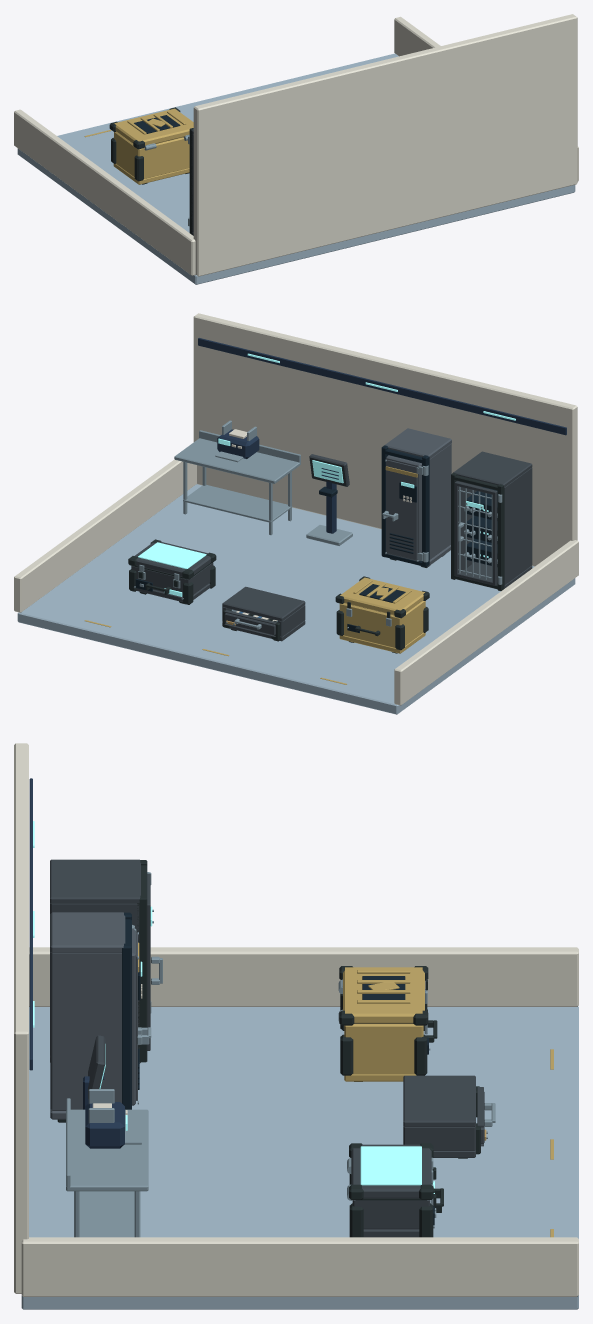
Rendered from equipment_service_room.glb.
3 renders of one model, top to bottom at view 1: azimuth 30°, elevation 25°; view 2: azimuth 150°, elevation 25°; view 3: azimuth 270°, elevation 25°, orthographic. The views are drawn at different scales.
Visible parts, largest first — view 1: rear_wall, room_floor, cutaway_side (×2), battery_module_crate_body_back_wall, battery_module_crate_moving_lid, battery_module_crate_body_side_wall, battery_module_crate_body_floor; view 2: room_floor, rear_wall, cutaway_side (×2), server_service_cabinet_body_side_wall (×2), service_rail, stainless_prep_table_work_surface, secure_equipment_locker_moving_front_inset, secure_equipment_locker_body_left_wall, stainless_prep_table_lower_shelf, currency_transport_case_body_roof, server_service_cabinet_body_roof, battery_module_crate_body_front_wall (+14 smaller); view 3: room_floor, cutaway_side (×2), secure_equipment_locker_body_right_wall, rear_wall, stainless_prep_table_work_surface, server_service_cabinet_body_roof, currency_transport_case_body_roof, battery_module_crate_body_side_wall, secure_equipment_locker_body_roof, battery_module_crate_moving_lid, stainless_prep_table_lower_shelf, encrypted_electronics_case_moving_lid_inset (+10 smaller).
Part boxes in pixels (bbox=[...]): rear_wall: bbox=[193, 14, 577, 276]; room_floor: bbox=[17, 53, 575, 284]; cutaway_side (×2): bbox=[14, 16, 578, 275]; battery_module_crate_body_back_wall: bbox=[136, 137, 189, 178]; battery_module_crate_moving_lid: bbox=[114, 108, 193, 145]; battery_module_crate_body_side_wall: bbox=[114, 131, 141, 176]; battery_module_crate_body_floor: bbox=[113, 163, 189, 184]; room_floor: bbox=[17, 484, 575, 714]; rear_wall: bbox=[193, 313, 577, 566]; cutaway_side (×2): bbox=[14, 459, 578, 705]; server_service_cabinet_body_side_wall (×2): bbox=[457, 469, 532, 584]; service_rail: bbox=[198, 338, 566, 435]; stainless_prep_table_work_surface: bbox=[174, 438, 300, 483]; secure_equipment_locker_moving_front_inset: bbox=[387, 460, 417, 559]; secure_equipment_locker_body_left_wall: bbox=[429, 444, 451, 559]; stainless_prep_table_lower_shelf: bbox=[183, 485, 292, 522]; currency_transport_case_body_roof: bbox=[222, 586, 305, 621]; server_service_cabinet_body_roof: bbox=[453, 451, 532, 487]; battery_module_crate_body_front_wall: bbox=[340, 603, 401, 647]; room_floor: bbox=[21, 1006, 578, 1309]; cutaway_side (×2): bbox=[21, 947, 578, 1296]; secure_equipment_locker_body_right_wall: bbox=[50, 952, 121, 1110]; rear_wall: bbox=[14, 743, 28, 1293]; stainless_prep_table_work_surface: bbox=[66, 1109, 148, 1191]; server_service_cabinet_body_roof: bbox=[50, 859, 140, 903]; currency_transport_case_body_roof: bbox=[403, 1075, 475, 1126]; battery_module_crate_body_side_wall: bbox=[344, 1024, 423, 1074]; secure_equipment_locker_body_roof: bbox=[50, 912, 125, 952]; battery_module_crate_moving_lid: bbox=[343, 967, 424, 1023]; stainless_prep_table_lower_shelf: bbox=[74, 1191, 140, 1237]; encrypted_electronics_case_moving_lid_inset: bbox=[360, 1146, 421, 1185].
Bounding box in the file's own units: 6.53 × 2.86 × 5.27.
